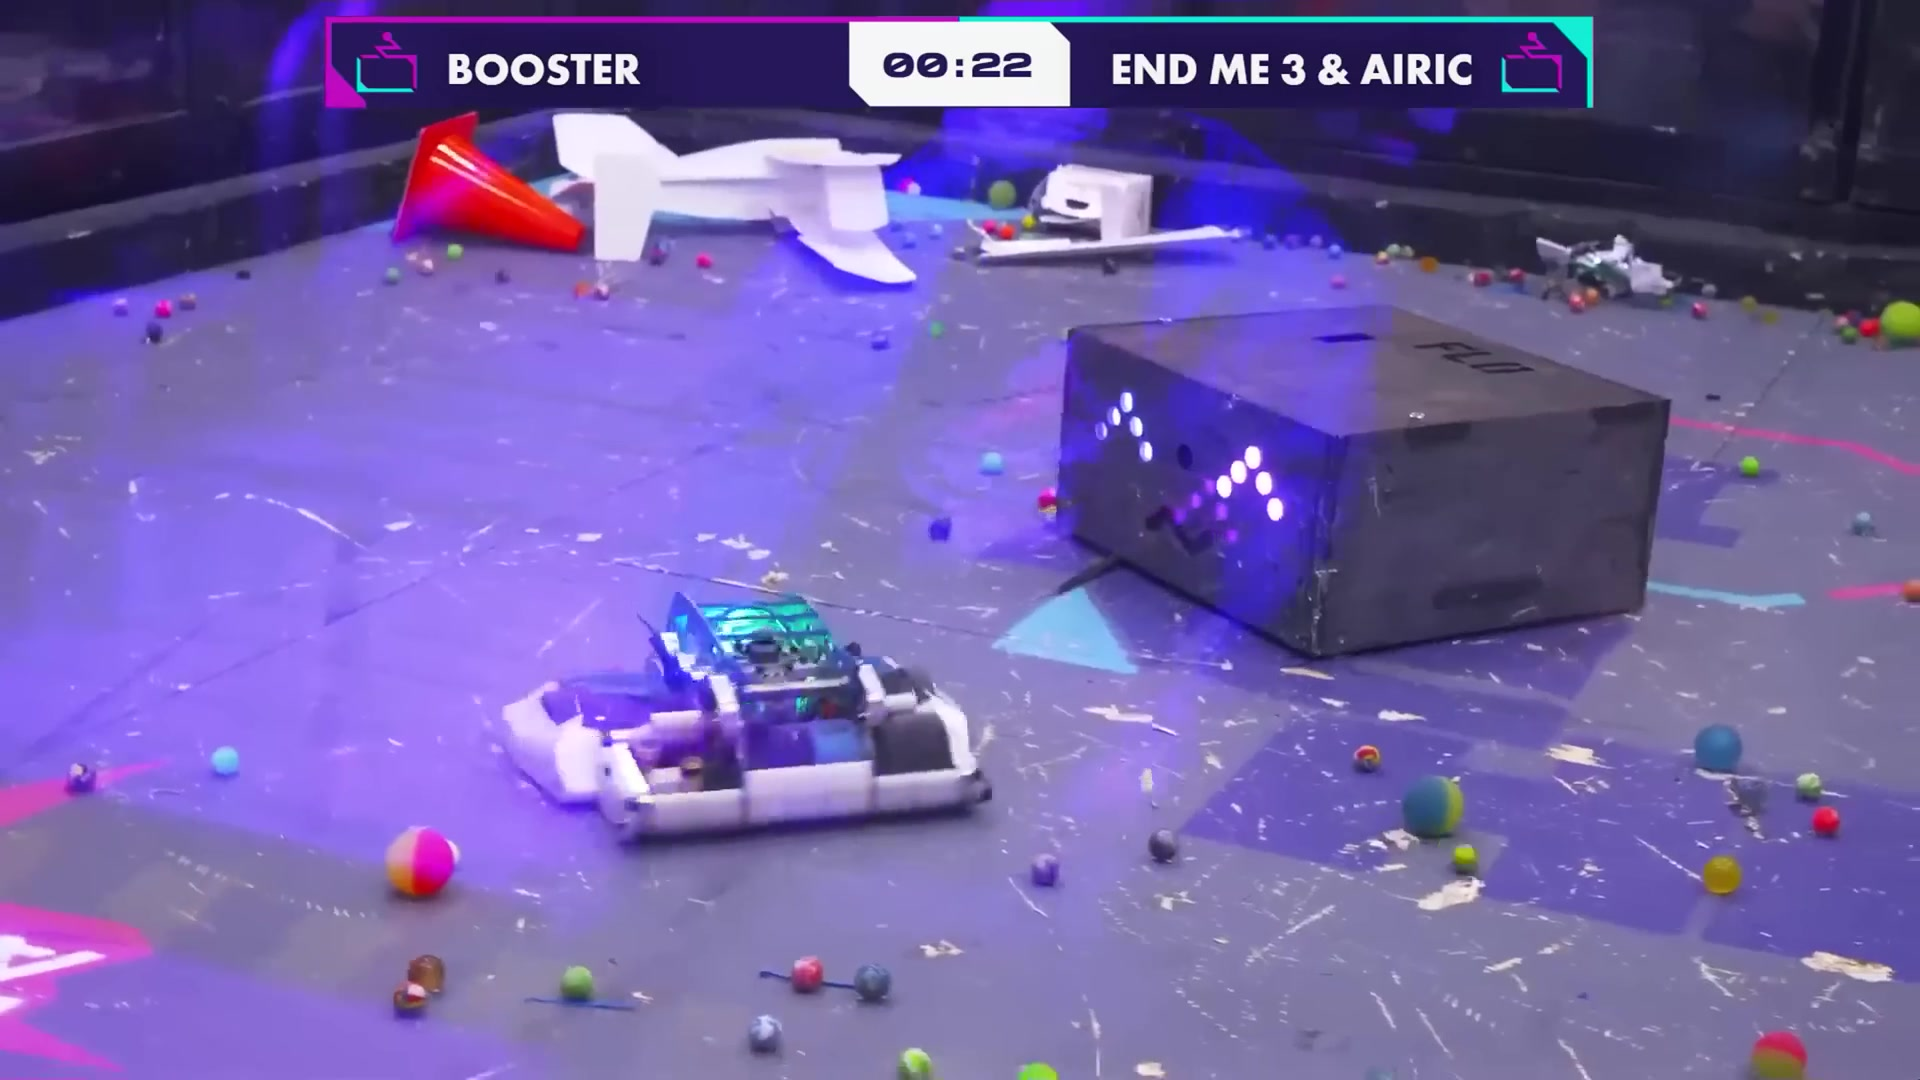combatbot: (504, 596, 989, 833)
debris: (554, 111, 919, 286), (388, 109, 580, 251), (980, 165, 1245, 264), (1532, 225, 1677, 307)
housebot: (1056, 305, 1672, 647)
